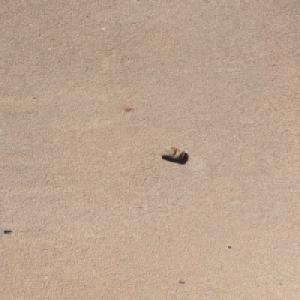Rock: (157, 145, 185, 159)
